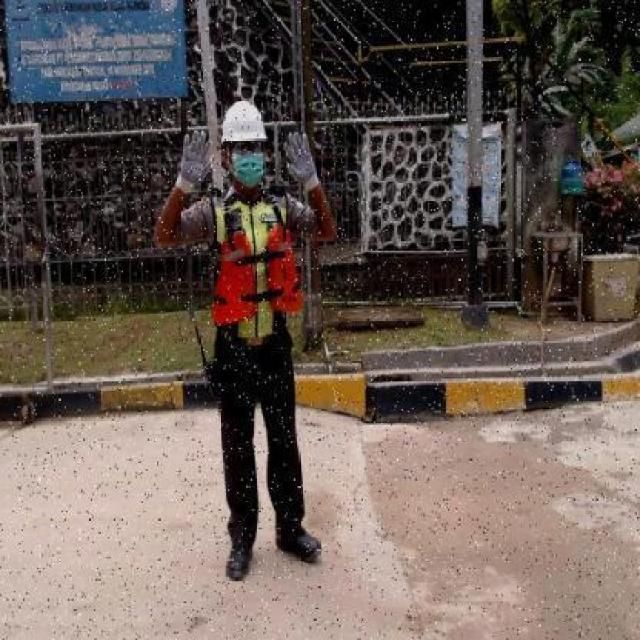Boots: (273, 524, 324, 564), (223, 532, 257, 582)
Gloves: (174, 130, 214, 196), (282, 130, 320, 192)
Helmet: (219, 98, 267, 140)
Mask: (232, 156, 266, 187)
Protective Glasses: (230, 141, 264, 154)
Vest: (211, 225, 303, 327)
